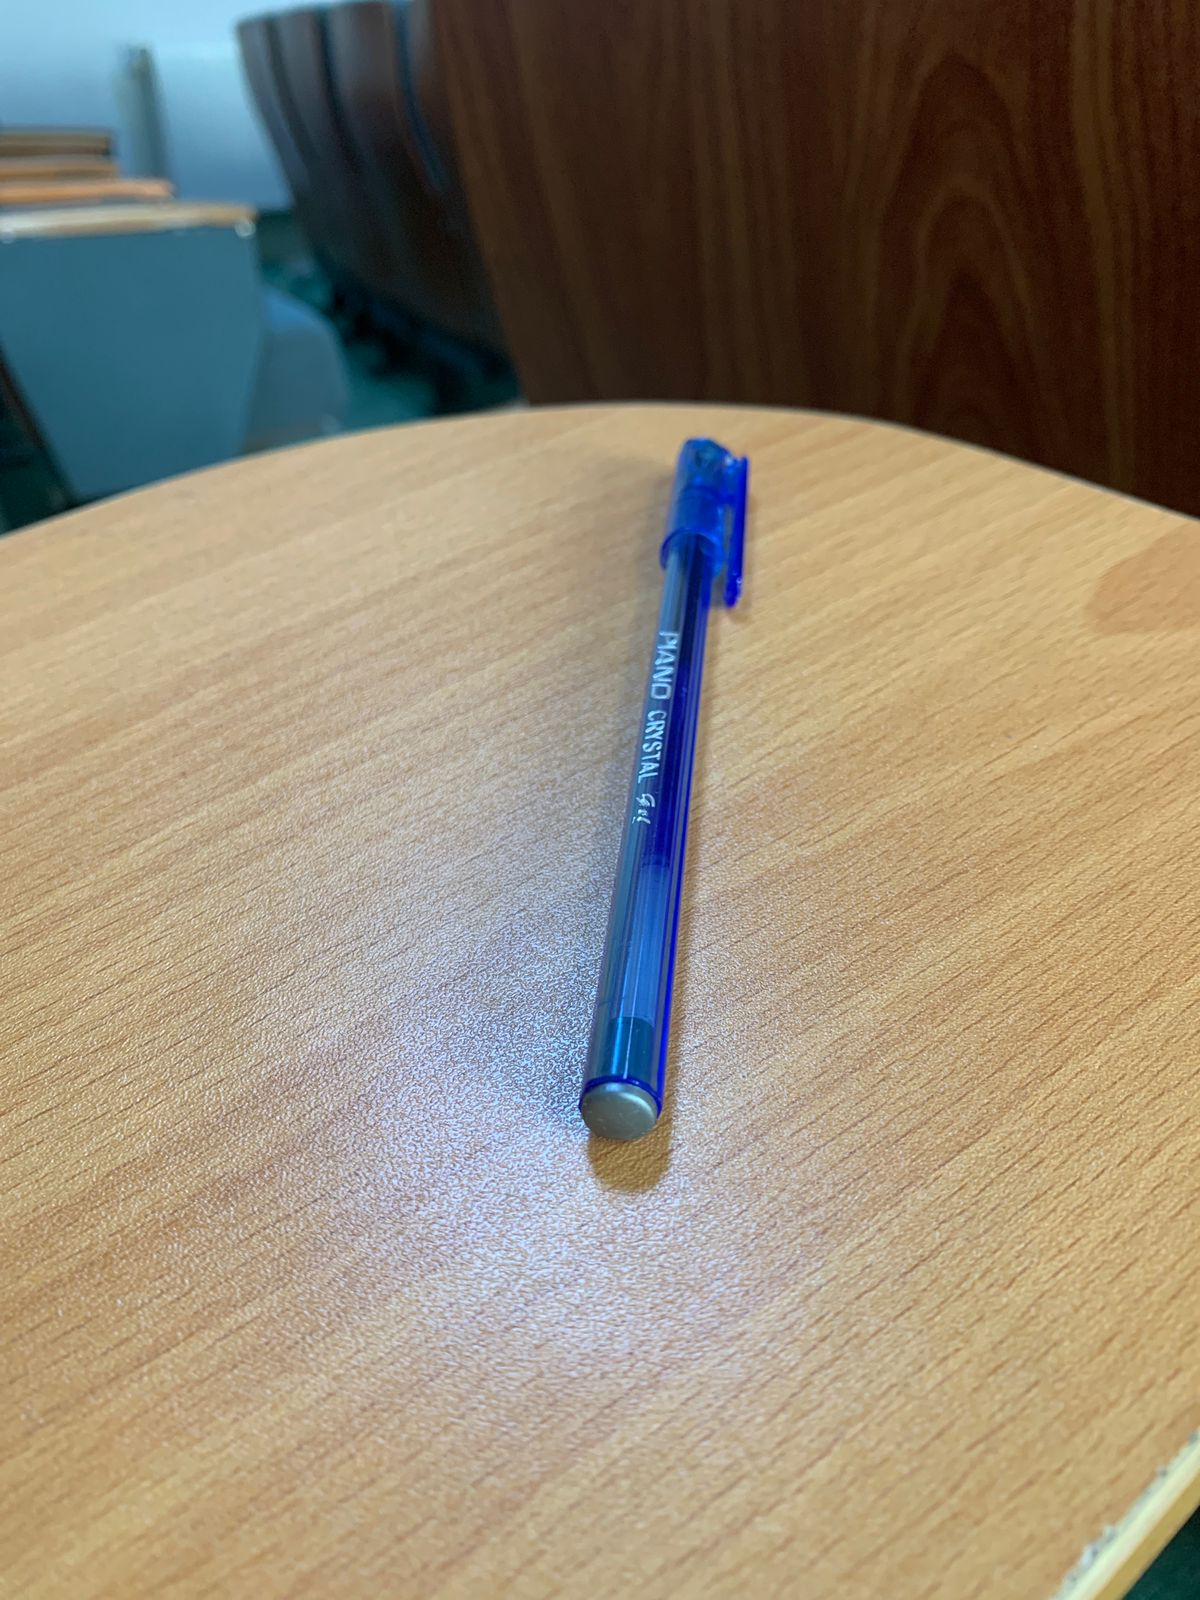pen: (497, 396, 828, 1318)
